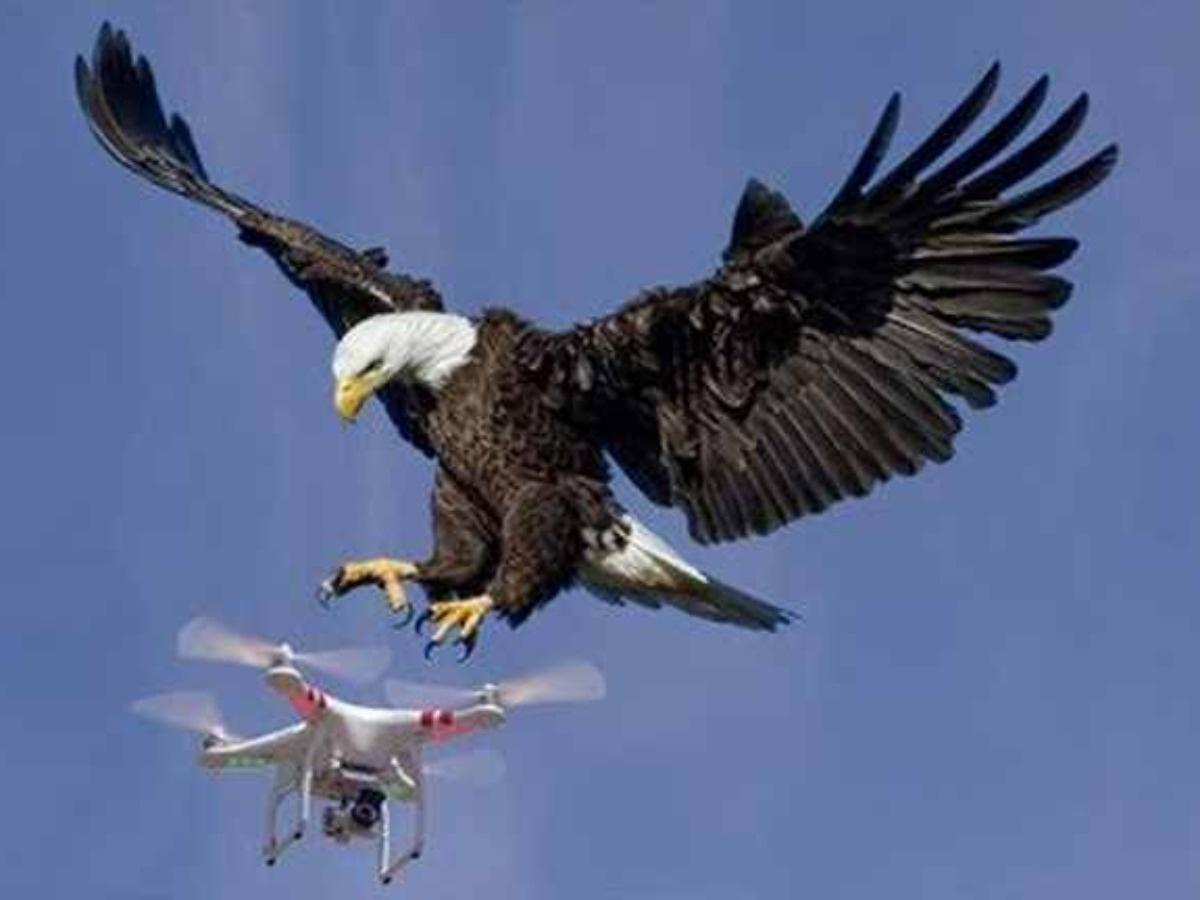Bird: (54, 6, 1147, 661)
Drone: (124, 603, 622, 889)
